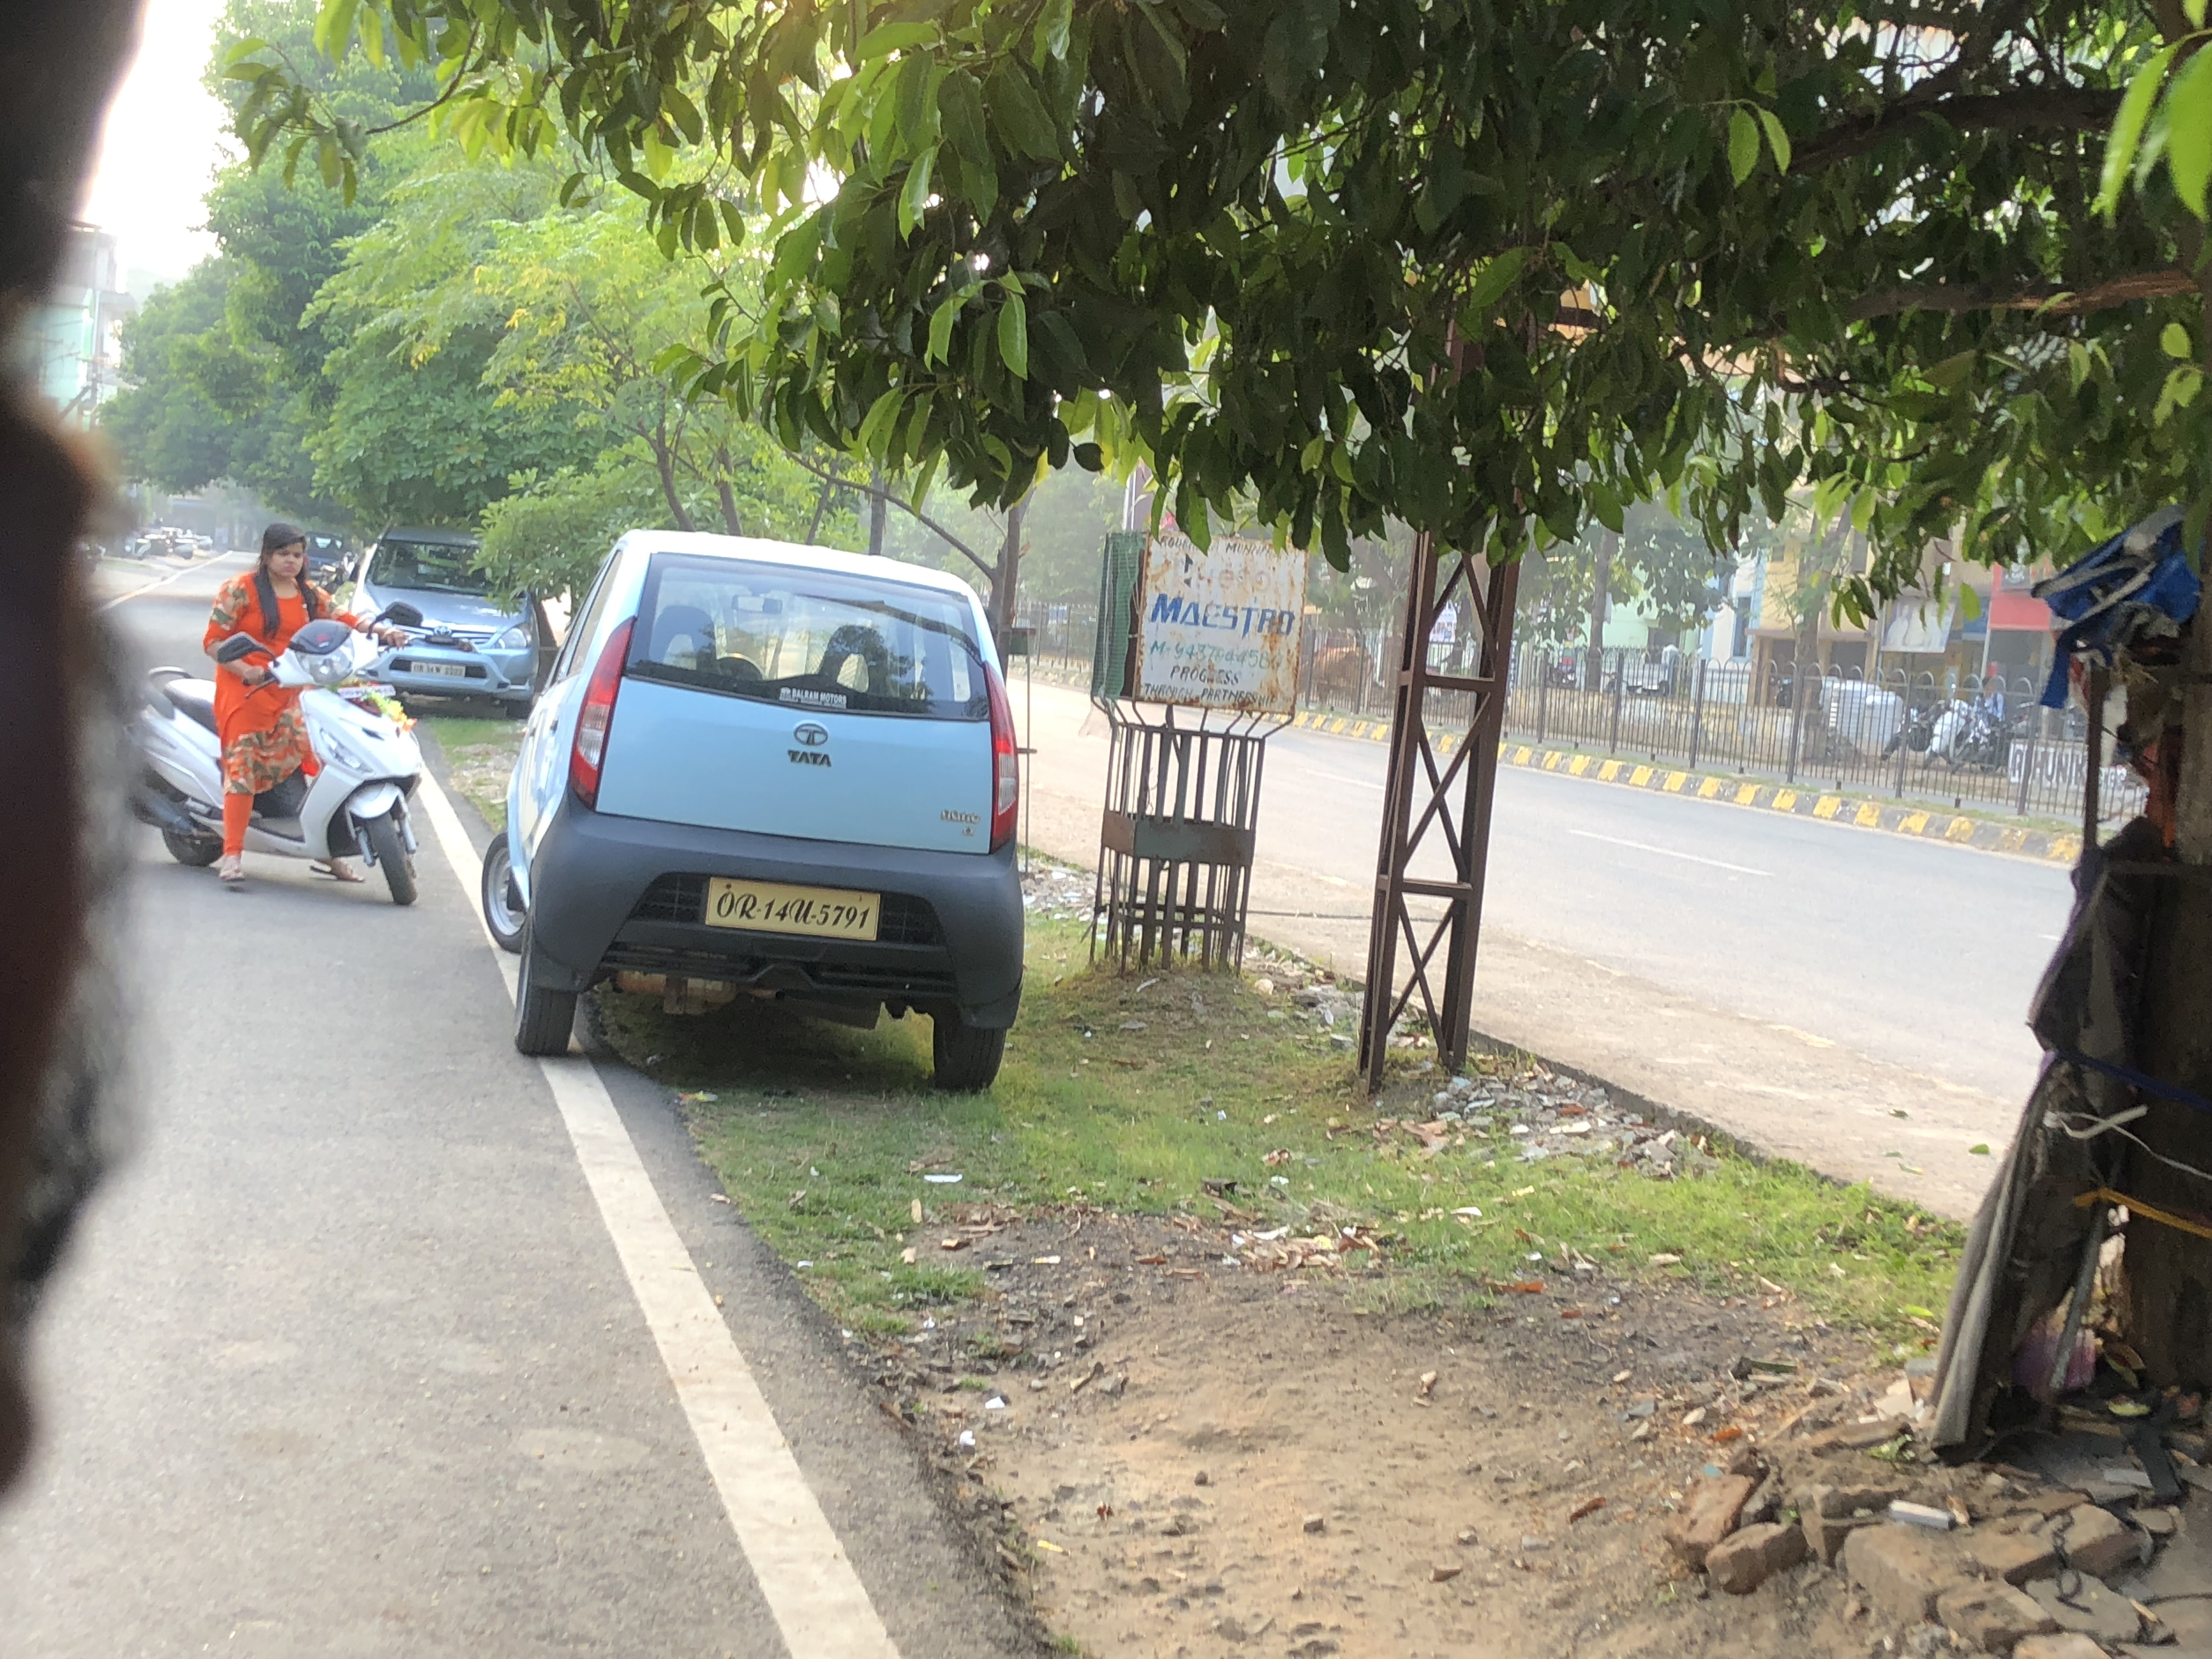licenseplate: (689, 861, 888, 954)
